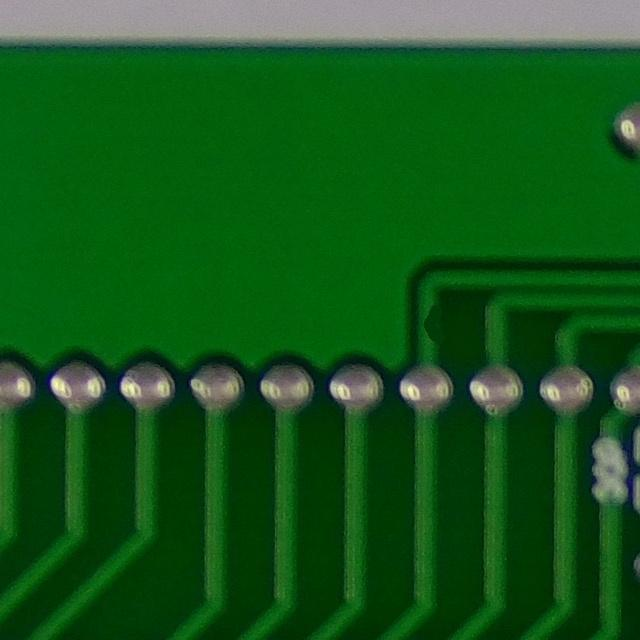mouse_bite: (407, 289, 463, 361)
